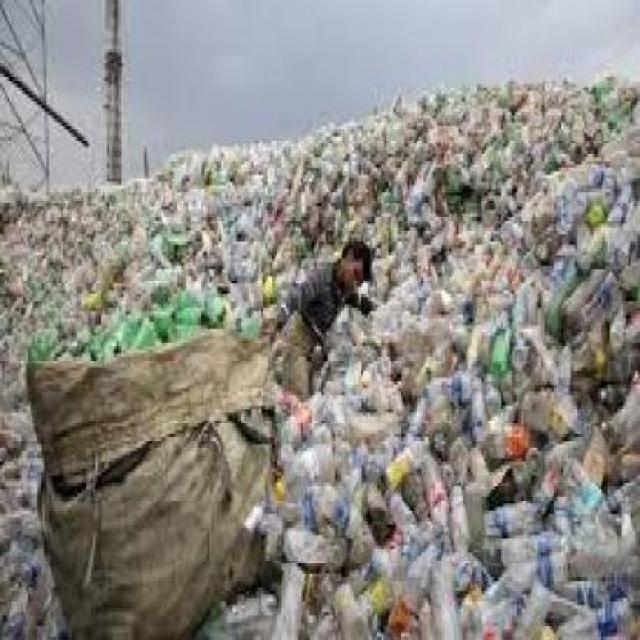garbage: (377, 119, 638, 636), (0, 349, 440, 636), (3, 182, 257, 332), (186, 140, 424, 231)
